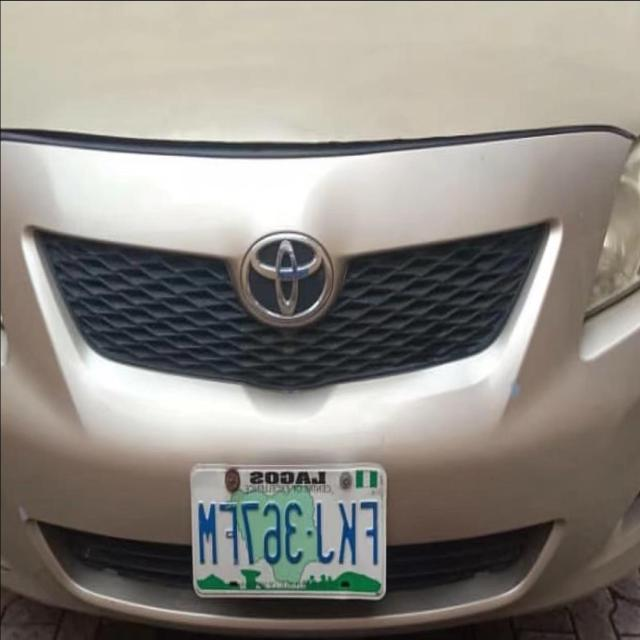Nigerian License Plate - vdataset benjamin-daria: (190, 459, 390, 606)
